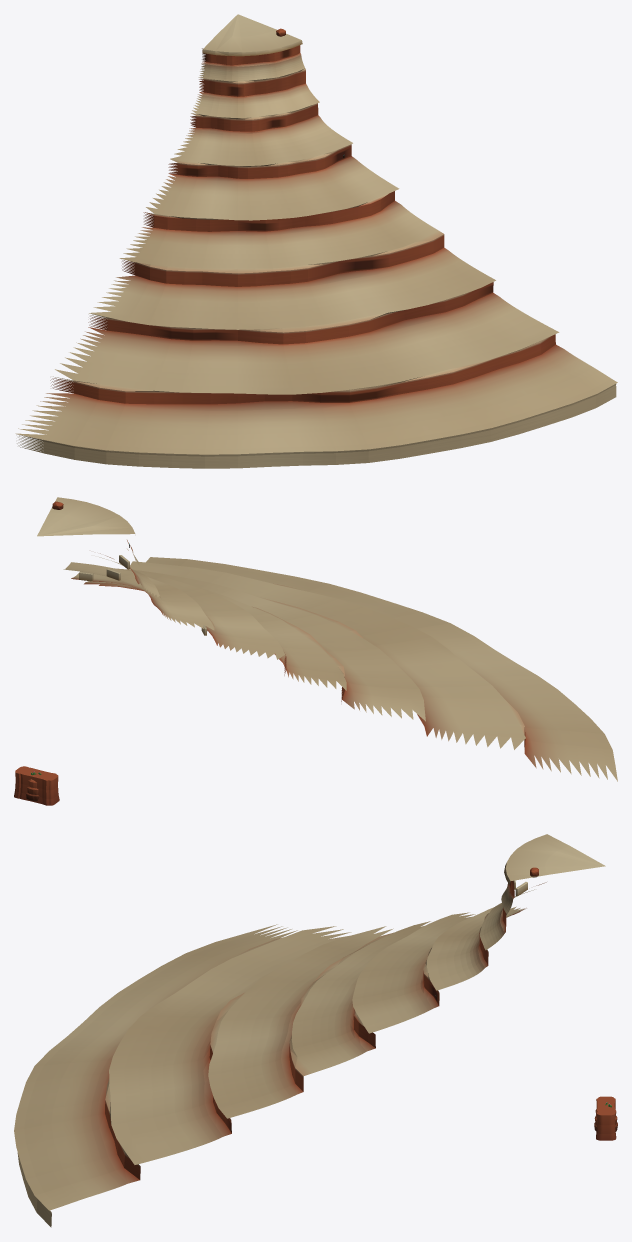
The model's file is canyon-s3-zm6Q-mqJ.glb.
3 views of the same model, one above another, from view 1: azimuth 30°, elevation 25°; view 2: azimuth 150°, elevation 25°; view 3: azimuth 270°, elevation 25° (orthographic). The views are drawn at different scales.
Visible parts, largest first — view 1: sc_landmark_3; view 2: sc_landmark_3, sc_cliffbase; view 3: sc_landmark_3, sc_cliffbase.
Part boxes in pixels (bbox=[...]): sc_landmark_3: bbox=[15, 14, 617, 468]; sc_landmark_3: bbox=[37, 497, 617, 781]; sc_cliffbase: bbox=[14, 766, 59, 805]; sc_landmark_3: bbox=[14, 834, 605, 1227]; sc_cliffbase: bbox=[596, 1096, 616, 1140].
Size of the model in its own units: 494 by 230 by 440.
